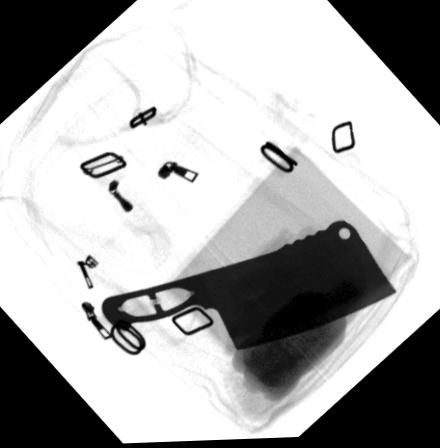Knife: (99, 221, 398, 358)
